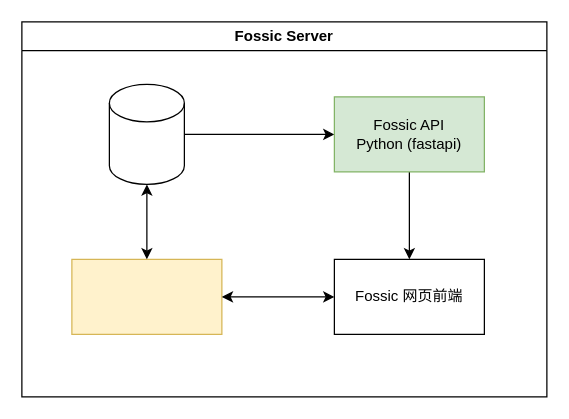
Image size: 569x419. Some labels were removed from this diagram. The box of each missing label's shape, as (x1, y1, x2, y2) in pixels:
Fossic Discuz PHP: (71, 258, 222, 334)
MySQL: (108, 83, 184, 184)
